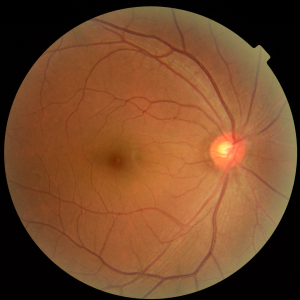healthy_eye: (41, 90, 279, 208)
